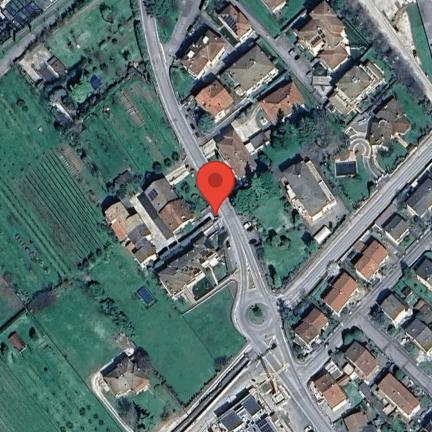area_open: (180, 351, 280, 430), (278, 31, 335, 94), (348, 111, 390, 185), (241, 295, 290, 353), (195, 43, 241, 87), (181, 98, 217, 142), (151, 37, 181, 76), (207, 220, 235, 257)
built: (205, 383, 297, 432), (297, 1, 353, 72), (278, 158, 336, 225), (329, 59, 385, 116), (215, 126, 263, 185), (227, 44, 277, 95), (375, 372, 421, 420), (259, 81, 306, 125), (188, 19, 230, 65), (195, 77, 236, 119), (217, 2, 256, 43), (311, 368, 350, 407), (144, 175, 180, 214), (344, 341, 380, 378), (158, 198, 194, 234), (118, 210, 153, 246), (118, 353, 151, 389), (176, 44, 211, 76), (101, 363, 132, 398), (402, 318, 432, 354), (378, 291, 411, 323), (173, 251, 203, 285), (158, 264, 188, 297), (191, 233, 219, 268), (366, 120, 396, 151), (416, 0, 432, 58), (408, 180, 432, 218), (321, 285, 352, 313), (343, 408, 379, 432), (304, 304, 332, 333), (383, 214, 411, 243), (244, 127, 274, 154), (353, 254, 382, 281), (373, 97, 406, 120), (331, 269, 359, 296), (363, 238, 390, 266), (292, 319, 320, 345), (133, 238, 157, 267), (200, 208, 222, 233), (414, 263, 432, 293), (105, 203, 128, 224), (343, 361, 362, 382), (261, 0, 289, 13), (326, 361, 344, 380), (110, 222, 127, 242), (396, 114, 412, 134), (123, 238, 138, 254), (337, 374, 352, 388)
vegetation_low: (0, 69, 185, 339), (0, 242, 182, 432), (0, 0, 148, 192), (134, 282, 252, 416), (254, 96, 378, 216), (328, 0, 432, 141), (231, 166, 320, 295), (4, 377, 132, 432), (369, 303, 432, 379), (172, 250, 238, 315), (112, 380, 180, 432), (0, 0, 67, 48), (387, 363, 432, 432), (393, 270, 432, 332), (174, 170, 214, 219), (239, 0, 287, 40), (149, 0, 189, 45), (340, 327, 384, 359), (255, 36, 289, 75), (176, 60, 203, 107), (276, 0, 317, 26), (292, 72, 311, 102), (343, 376, 360, 407), (331, 350, 348, 368)
